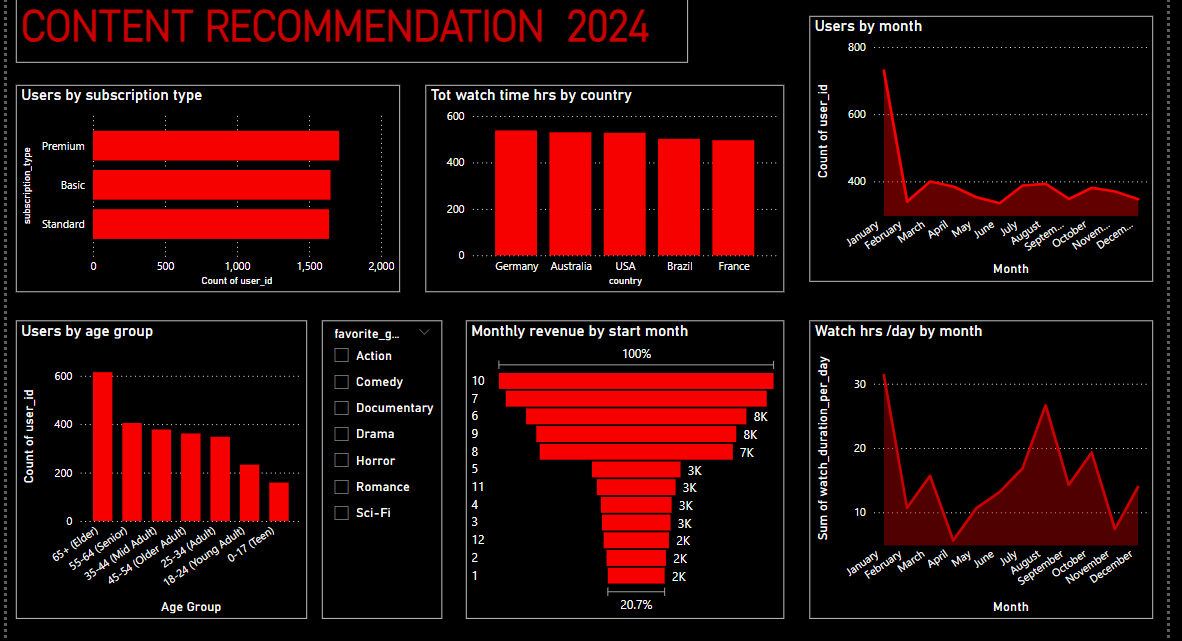

Layout of this report page (visuals, bound fields, positions):
{"tool":"powerbi","page":{"name":"Page 2","canvas":[1280,720],"ordinal":1},"visuals":[{"type":"textbox","box":[9.9,0,742.1,74.5],"z":0},{"type":"barChart","title":"Users by subscription type","fields":{"Y":["CountNonNull(Netflix_Final.user_id)"],"Category":["Netflix_Final.subscription_type"]},"box":[9.9,99.4,424.1,228.6],"z":1000},{"type":"clusteredColumnChart","title":"Users by age group","fields":{"Category":["Netflix_Final.Age Group"],"Y":["Count(Netflix_Final.user_id)"]},"box":[9.9,359.5,321.4,329.6],"z":2000},{"type":"slicer","fields":{"Values":["Netflix_Final.favorite_genre"]},"box":[347.9,359.5,132.5,329.6],"z":3000},{"type":"stackedAreaChart","title":"Users by month","fields":{"Category":["Netflix_Final.watch_time_hours.Variation.Date Hierarchy.Month"],"Y":["Count(Netflix_Final.user_id)"]},"box":[886.2,23.2,379.3,293.2],"z":4000},{"type":"areaChart","title":"Watch hrs /day by month","fields":{"Category":["Netflix_Final.watch_time_hours.Variation.Date Hierarchy.Month"],"Y":["Sum(Netflix_Final.watch_duration_per_day)"]},"box":[886.2,359.5,379.3,329.6],"z":5000},{"type":"columnChart","title":"Tot watch time hrs by country","fields":{"Category":["Netflix_Final.country"],"Y":["CountNonNull(Netflix_Final.total_watch_time_hours)"]},"box":[462.2,99.4,395.9,228.6],"z":6000},{"type":"funnel","title":"Monthly revenue by start month","fields":{"Category":["Netflix_Final.start_month"],"Y":["Sum(Netflix_Final.monthly_revenue)"]},"box":[506.9,359.5,351.2,329.6],"z":7000}]}

Visuals, with their boxes in screenshot pixels (x1, y1, x2, y2):
textbox: [12,0,687,59]
"Users by subscription type" barChart: [12,81,398,289]
"Users by age group" clusteredColumnChart: [12,318,304,617]
slicer - Netflix_Final.favorite_genre: [319,318,440,617]
"Users by month" stackedAreaChart: [809,12,1154,278]
"Watch hrs /day by month" areaChart: [809,318,1154,617]
"Tot watch time hrs by country" columnChart: [423,81,783,289]
"Monthly revenue by start month" funnel: [464,318,783,617]
